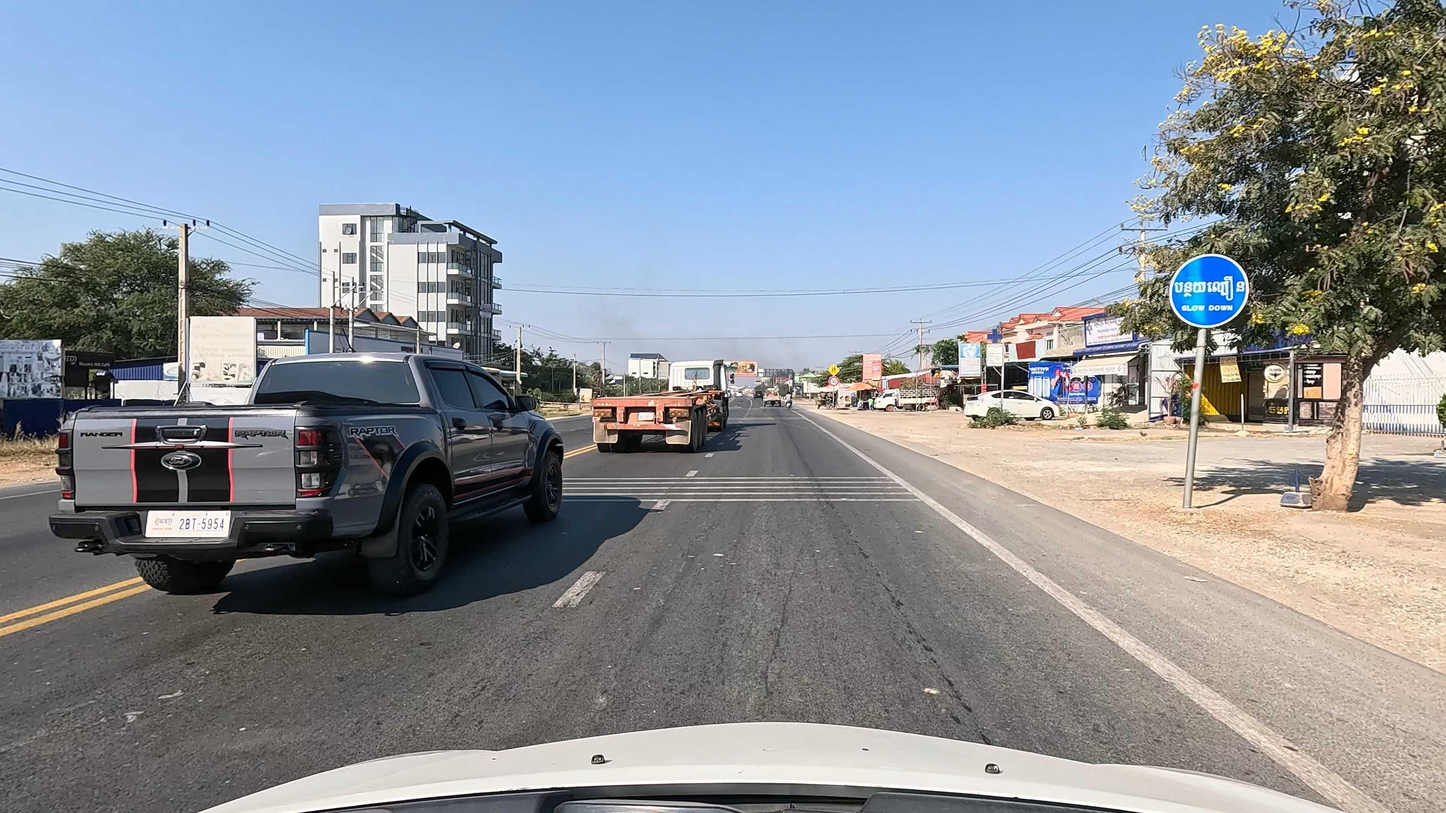school_zone: (827, 364, 841, 377)
slow_down: (1166, 252, 1251, 334)
speed_limit_30: (828, 376, 841, 388)
